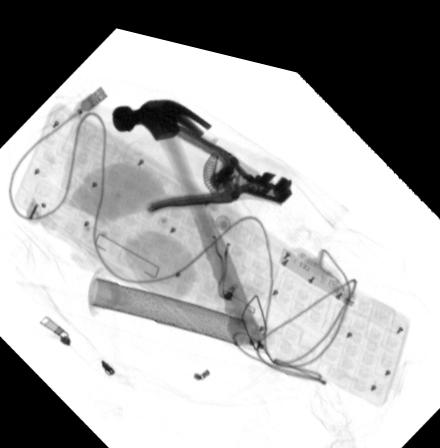Hammer: (110, 91, 260, 333)
Pliers: (144, 110, 293, 210)
